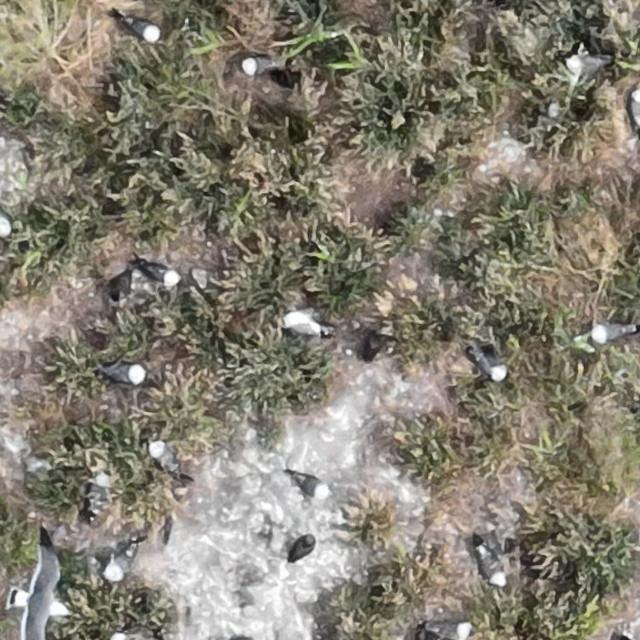F: (18, 554, 64, 638)
umineko: (150, 440, 179, 480), (89, 472, 110, 516), (477, 352, 506, 382), (126, 18, 160, 41), (108, 364, 146, 384), (481, 553, 504, 586), (591, 325, 632, 343), (108, 551, 133, 580), (142, 263, 178, 283), (294, 474, 326, 496), (242, 56, 280, 74), (286, 313, 320, 333), (567, 54, 602, 73), (630, 90, 639, 125), (452, 622, 470, 639), (0, 210, 10, 237)
